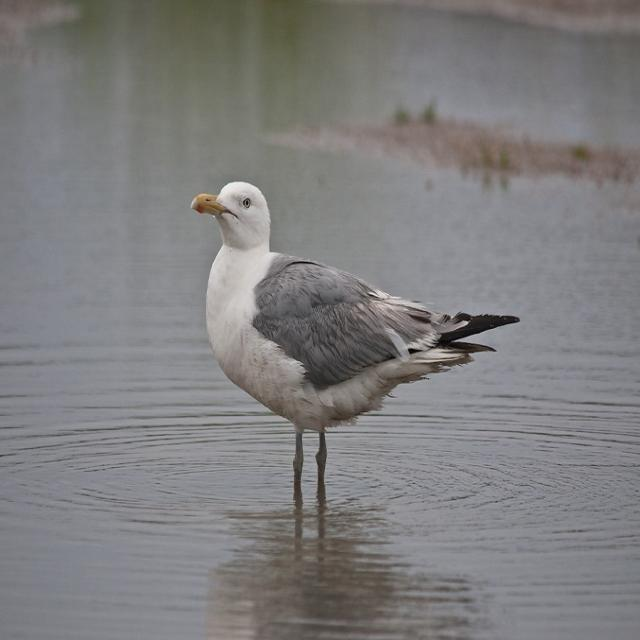bird: (187, 178, 531, 479)
